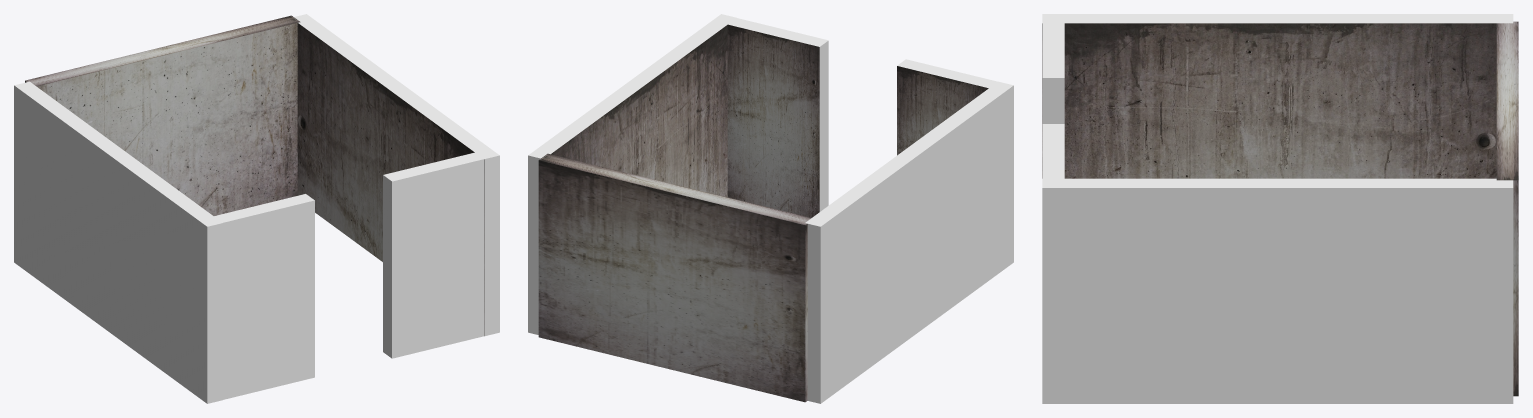
Rendered from electrical-roomouter.fbx.
3 views of the same model, side by side, from view 1: azimuth 30°, elevation 25°; view 2: azimuth 150°, elevation 25°; view 3: azimuth 270°, elevation 25° (orthographic). The views are drawn at different scales.
Visible parts, largest first — view 1: Wall__13_.002, Wall__5_.001, Wall__13_.011, Wall__13_.005, Wall__13_.004; view 2: Wall__5_.001, Wall__13_.002, Wall__13_.011, Wall__13_.005, Wall__13_.004; view 3: Wall__13_.011, Wall__13_.002, Wall__5_.001, Wall__13_.004, Wall__13_.005.
Part boxes in pixels (left/top/right/bottom): Wall__13_.002: left=14, top=81, right=222, bottom=403; Wall__5_.001: left=25, top=15, right=300, bottom=215; Wall__13_.011: left=294, top=14, right=499, bottom=336; Wall__13_.005: left=383, top=152, right=483, bottom=358; Wall__13_.004: left=210, top=194, right=314, bottom=399; Wall__5_.001: left=538, top=153, right=811, bottom=402; Wall__13_.002: left=805, top=82, right=1013, bottom=403; Wall__13_.011: left=528, top=14, right=736, bottom=334; Wall__13_.005: left=727, top=18, right=828, bottom=217; Wall__13_.004: left=897, top=59, right=1001, bottom=155; Wall__13_.011: left=1042, top=178, right=1513, bottom=403; Wall__13_.002: left=1042, top=14, right=1513, bottom=178; Wall__5_.001: left=1496, top=21, right=1518, bottom=396; Wall__13_.004: left=1042, top=21, right=1064, bottom=123; Wall__13_.005: left=1042, top=124, right=1064, bottom=178.
Bounding box in the file's own units: 5.6 × 3.24 × 6.48.
